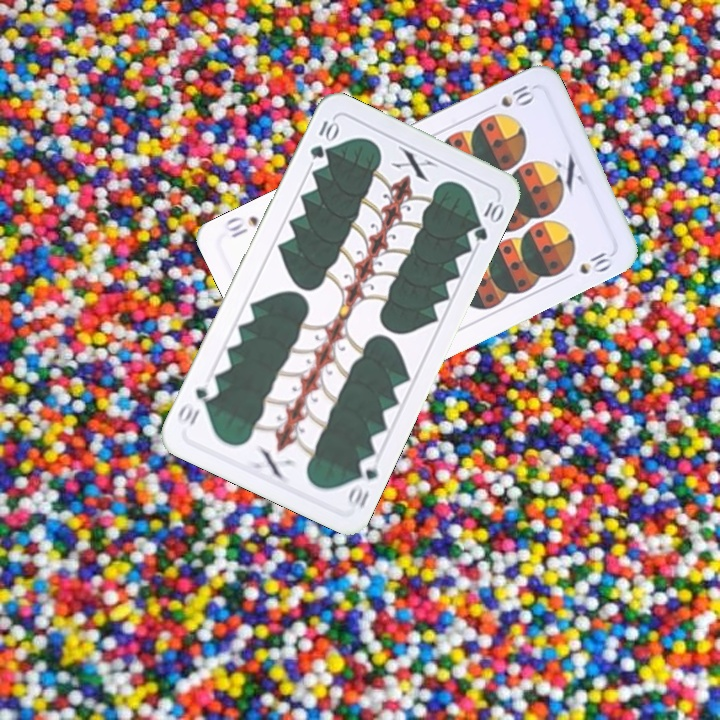G10: (343, 452, 382, 512), (305, 114, 341, 162)
S10: (481, 78, 538, 114)
